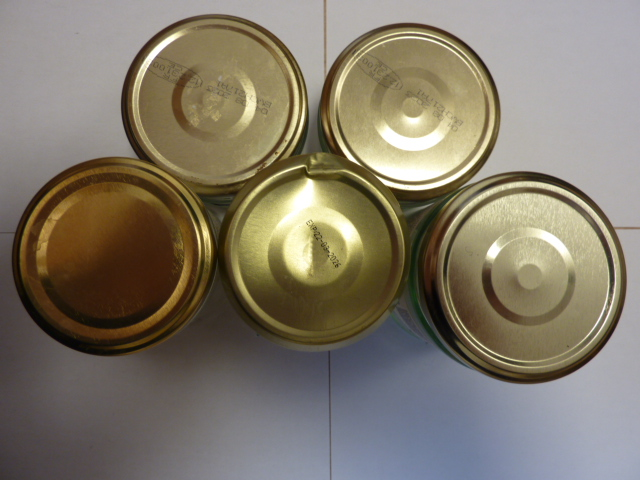damaged: (221, 154, 410, 350)
intact: (417, 171, 627, 381), (123, 15, 308, 195)
